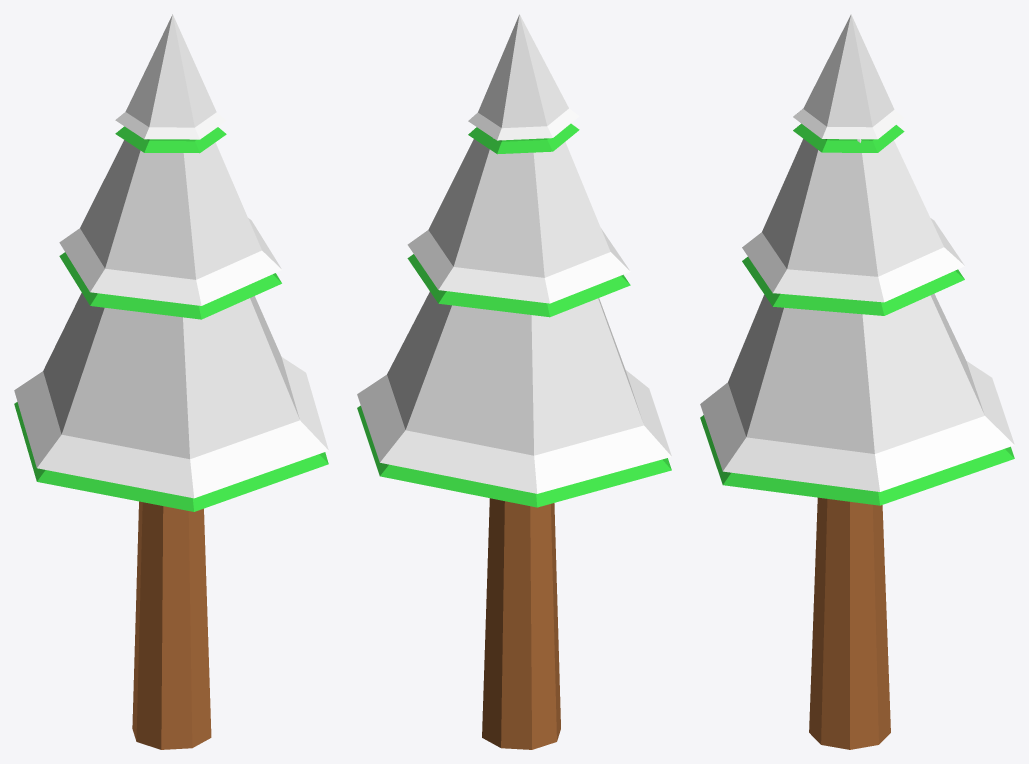
Rendered from talvi_manty1.fbx.
3 views of the same model, side by side, from view 1: azimuth 30°, elevation 25°; view 2: azimuth 150°, elevation 25°; view 3: azimuth 270°, elevation 25° (orthographic).
Parts seen in each view (by area): view 1: Cone.001; view 2: Cone.001; view 3: Cone.001.
Part boxes in pixels (bbox=[...]): Cone.001: bbox=[14, 14, 328, 749]; Cone.001: bbox=[357, 14, 671, 749]; Cone.001: bbox=[700, 14, 1014, 749].
Bounding box in the file's own units: 666 × 1567 × 621.
